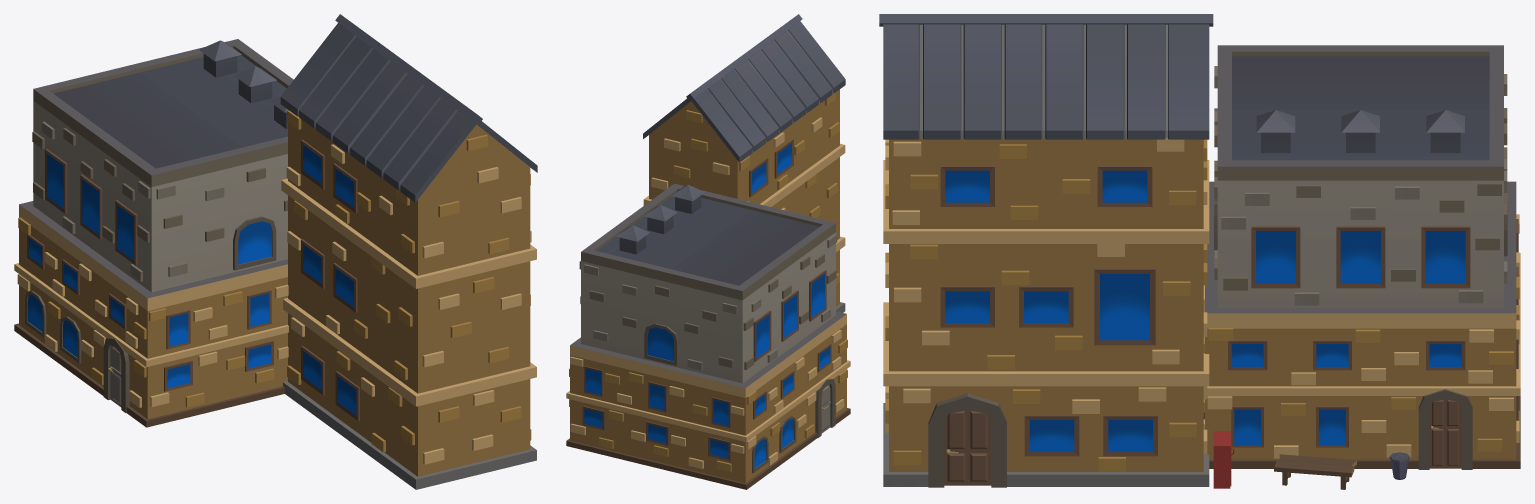
Rendered from Test_Godot.glb.
3 views of the same model, side by side, from view 1: azimuth 30°, elevation 25°; view 2: azimuth 150°, elevation 25°; view 3: azimuth 270°, elevation 25° (orthographic). The views are drawn at different scales.
Visible parts, largest first — view 1: SM_House_98, SM_House_99; view 2: SM_House_99, SM_House_98; view 3: SM_House_98, SM_House_99, SM_Bench70, SM_Electric_Box67.
Boxes of the visible parts, bbox=[...] form: SM_House_98: bbox=[280, 14, 537, 489]; SM_House_99: bbox=[14, 39, 293, 427]; SM_House_99: bbox=[566, 183, 850, 489]; SM_House_98: bbox=[643, 14, 845, 312]; SM_House_98: bbox=[879, 14, 1213, 487]; SM_House_99: bbox=[1203, 45, 1520, 469]; SM_Bench70: bbox=[1274, 454, 1356, 489]; SM_Electric_Box67: bbox=[1213, 431, 1234, 488].
Bounding box in the file's own units: 9.62 × 12.28 × 16.32.
3 materials, 3 textured.
